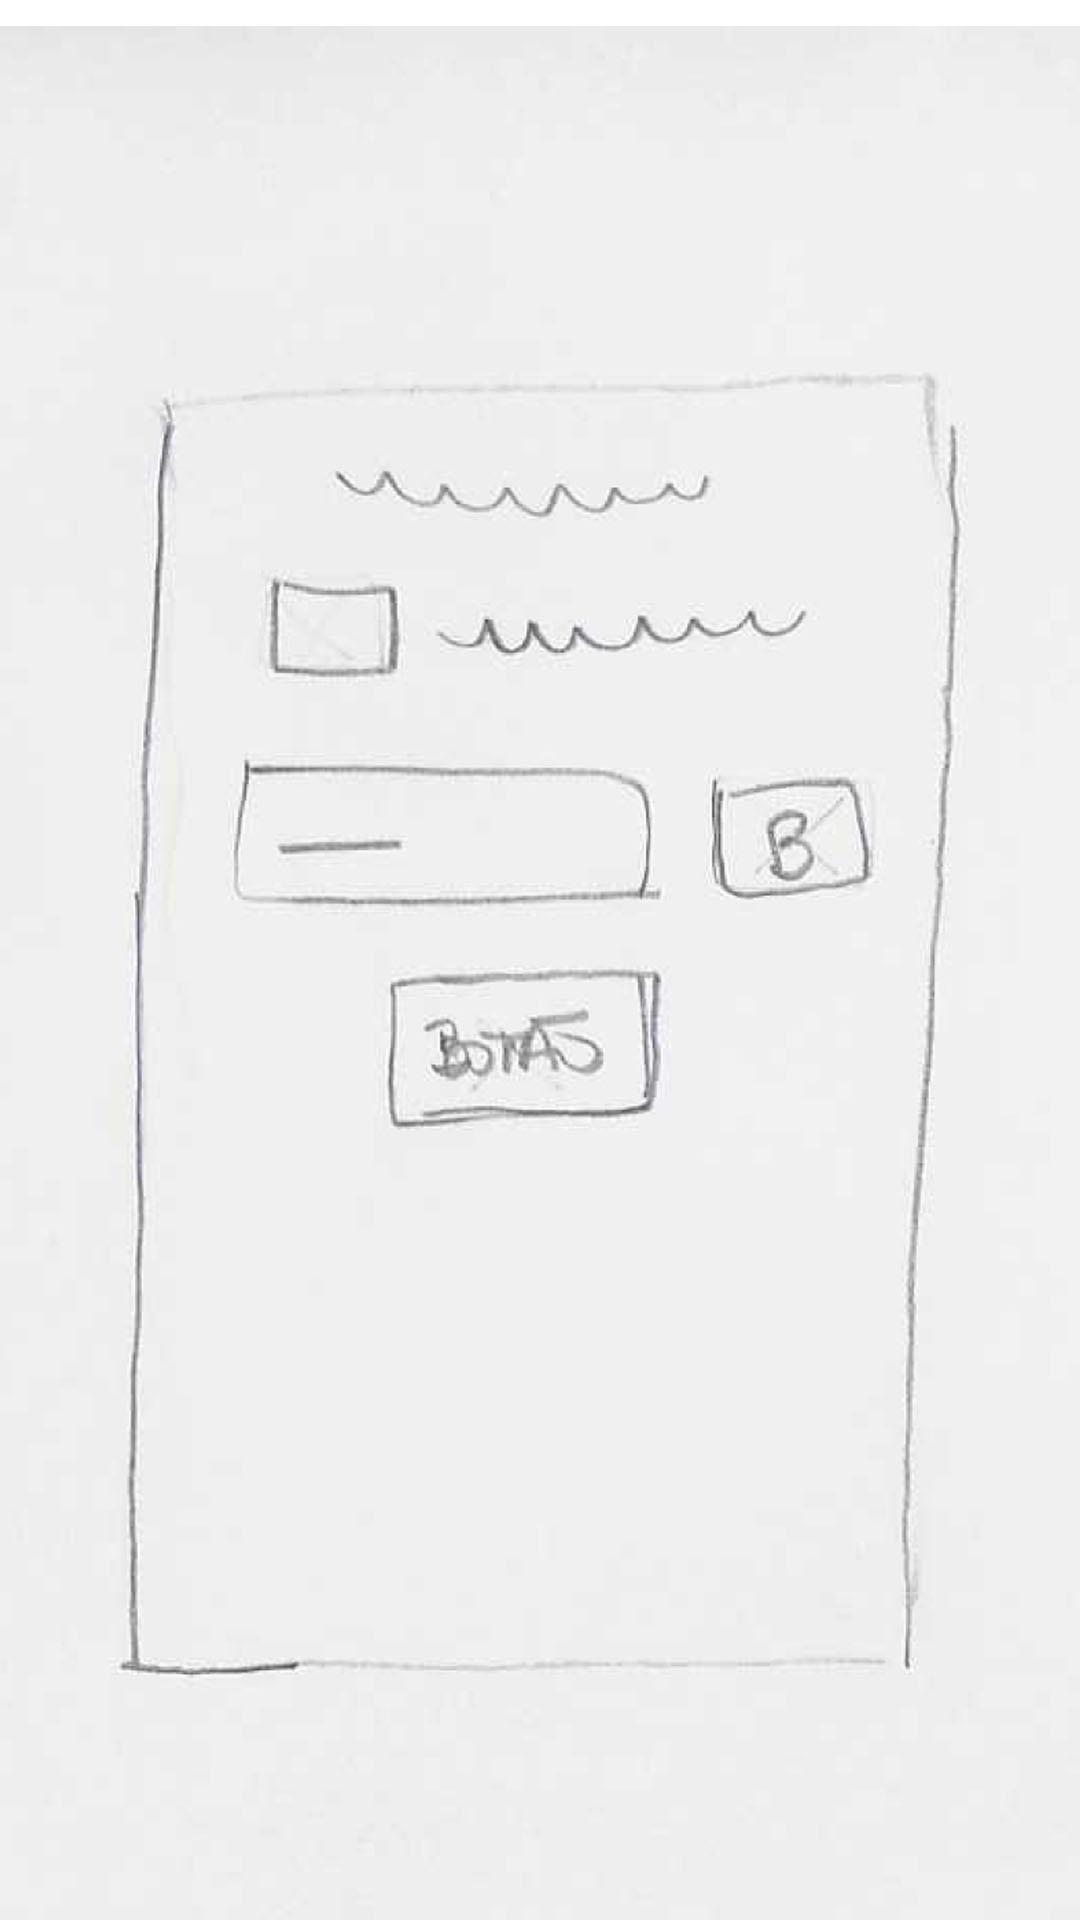Button: (385, 975, 662, 1127), (709, 781, 870, 898)
CheckBox: (270, 578, 807, 679)
Label: (332, 464, 705, 520)
Screen: (124, 371, 961, 1673)
TextBox: (233, 765, 654, 907)
